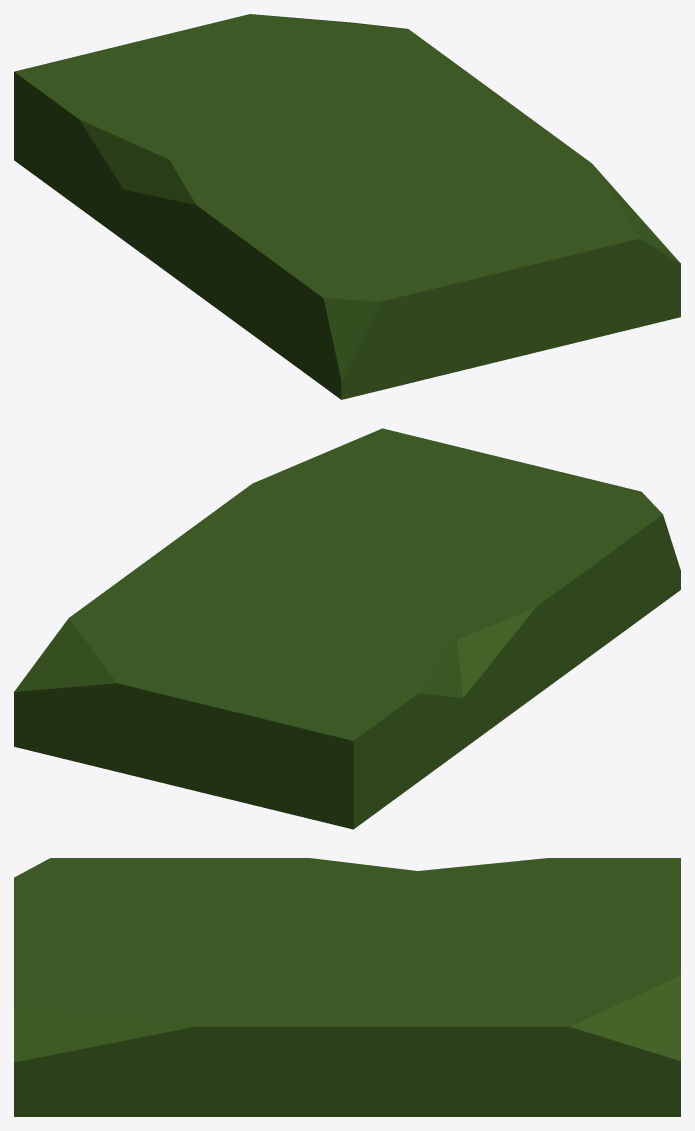
3 renders of one model, top to bottom at view 1: azimuth 30°, elevation 25°; view 2: azimuth 150°, elevation 25°; view 3: azimuth 270°, elevation 25°, orthographic.
Visible parts, largest first — view 1: Box001; view 2: Box001; view 3: Box001.
Boxes of the visible parts, box(x1,y1,x2,y2) form: Box001: box(14, 14, 680, 399); Box001: box(14, 428, 680, 829); Box001: box(14, 858, 680, 1116).
Bounding box in the file's own units: 17.16 × 4.28 × 28.67.
